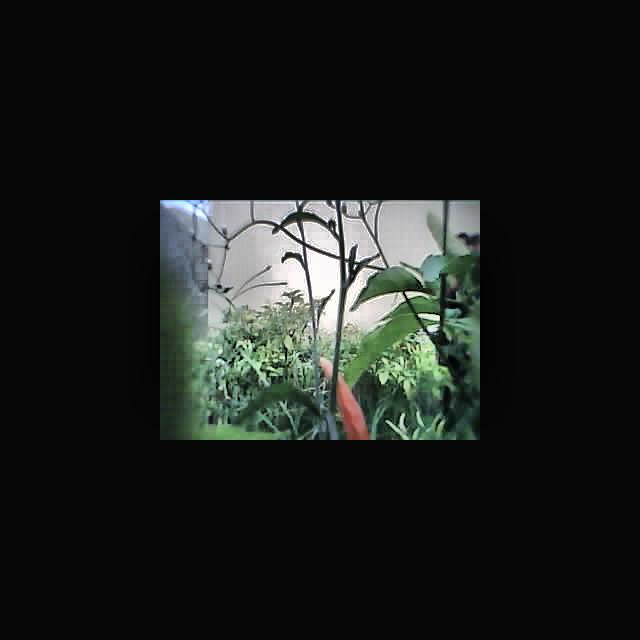Cabai: (319, 356, 372, 440)
